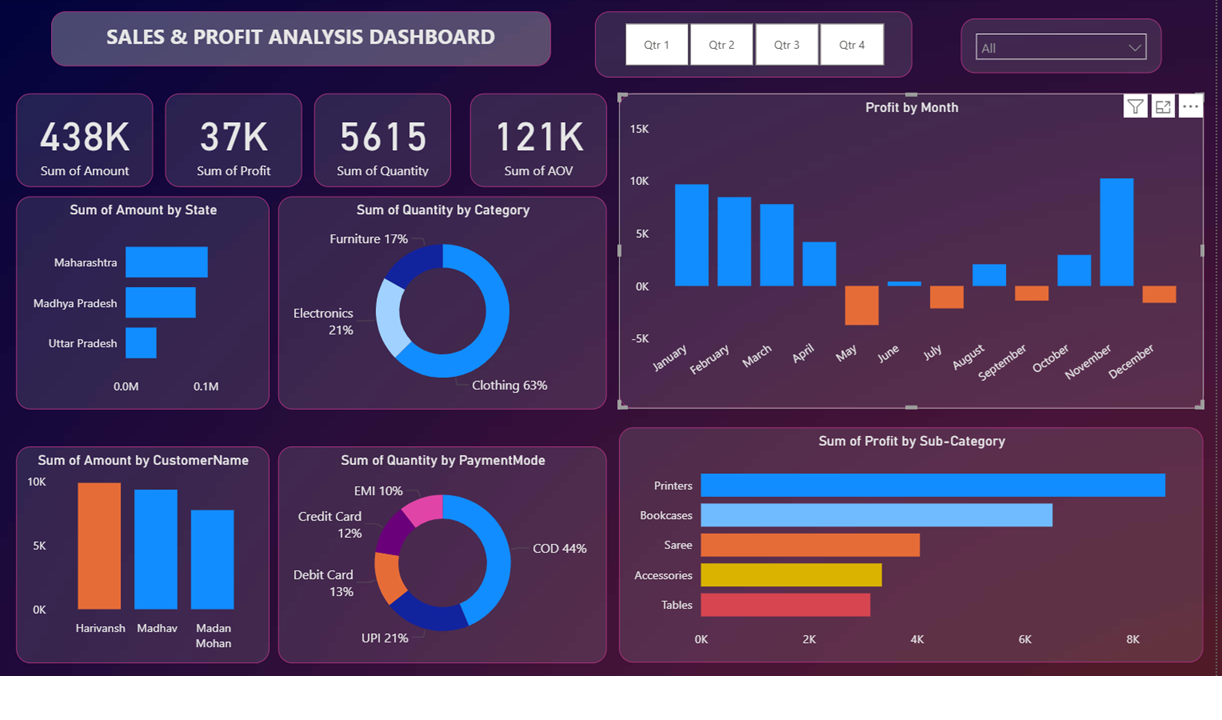

This screenshot's page, from the dashboard's own definition file:
{"tool":"powerbi","page":{"name":"Page 1","canvas":[1280,720],"ordinal":0},"visuals":[{"type":"textbox","box":[54.9,13.7,525.6,57.6],"z":0},{"type":"columnChart","title":"Profit by Month","fields":{"Category":["Orders.Order Date.Variation.Date Hierarchy.Month"],"Y":["Sum(Details.Profit)"]},"box":[652.3,100,615.1,331.4],"z":1000},{"type":"barChart","fields":{"Category":["Details.Sub-Category"],"Y":["Sum(Details.Profit)"]},"box":[651.8,451.5,614.8,247],"z":2000},{"type":"donutChart","fields":{"Y":["Sum(Details.Quantity)"],"Category":["Details.PaymentMode"]},"box":[293.7,470.7,345.8,227.8],"z":3000},{"type":"donutChart","fields":{"Category":["Details.Category"],"Y":["Sum(Details.Quantity)"]},"box":[293.7,208.6,345.8,223.7],"z":4000},{"type":"card","fields":{"Values":["Sum(Details.Amount)"]},"box":[17.8,100.2,144.1,98.8],"z":5000},{"type":"card","fields":{"Values":["Sum(Details.Profit)"]},"box":[174.3,100.2,144.1,98.8],"z":6000},{"type":"card","fields":{"Values":["Sum(Details.Quantity)"]},"box":[330.7,100.2,144.1,98.8],"z":7000},{"type":"card","fields":{"Values":["Sum(Details.AOV)"]},"box":[495.4,100.2,144.1,98.8],"z":8000},{"type":"barChart","fields":{"Category":["Orders.State"],"Y":["Sum(Details.Amount)"]},"box":[17.8,208.6,266.2,223.7],"z":9000},{"type":"columnChart","fields":{"Category":["Orders.CustomerName"],"Y":["Sum(Details.Amount)"]},"box":[18,471,266,228],"z":10000},{"type":"slicer","fields":{"Values":["Orders.Order Date.Variation.Date Hierarchy.Quarter"]},"box":[627.1,13.7,333.4,70],"z":11000},{"type":"slicer","fields":{"Values":["Orders.State"]},"box":[1011.3,20.6,211.3,57.6],"z":12000}]}

Visuals, with their boxes on the page's 1280x720 design canvas (x1, y1, x2, y2). These are canvas units, not pixel positions in the 1222x720 screenshot, which may show the page scaled, cropped or inside an application window:
textbox: [x1=55, y1=14, x2=580, y2=71]
"Profit by Month" columnChart: [x1=652, y1=100, x2=1267, y2=431]
barChart - Details.Sub-Category x Sum(Details.Profit): [x1=652, y1=452, x2=1267, y2=698]
donutChart - Sum(Details.Quantity) x Details.PaymentMode: [x1=294, y1=471, x2=640, y2=698]
donutChart - Details.Category x Sum(Details.Quantity): [x1=294, y1=209, x2=640, y2=432]
card - Sum(Details.Amount): [x1=18, y1=100, x2=162, y2=199]
card - Sum(Details.Profit): [x1=174, y1=100, x2=318, y2=199]
card - Sum(Details.Quantity): [x1=331, y1=100, x2=475, y2=199]
card - Sum(Details.AOV): [x1=495, y1=100, x2=640, y2=199]
barChart - Orders.State x Sum(Details.Amount): [x1=18, y1=209, x2=284, y2=432]
columnChart - Orders.CustomerName x Sum(Details.Amount): [x1=18, y1=471, x2=284, y2=699]
slicer - Orders.Order Date.Variation.Date Hierarchy.Quarter: [x1=627, y1=14, x2=960, y2=84]
slicer - Orders.State: [x1=1011, y1=21, x2=1223, y2=78]
